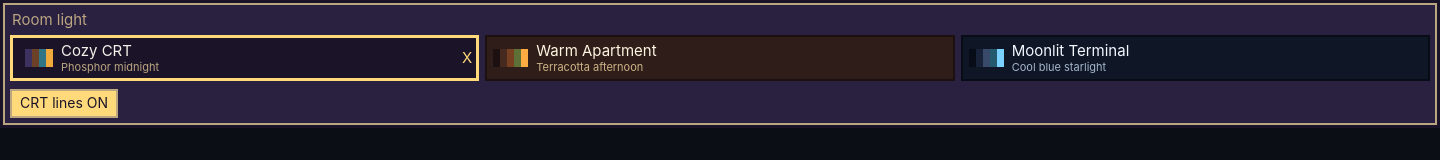
ThemeSelector › toggles_the_crt_scanlines_with_a_labelled_button
This screenshot has width=1440, height=160.
Click the button "CRT lines ON" at (64, 104), box x1=10 y1=89 x2=118 y2=118
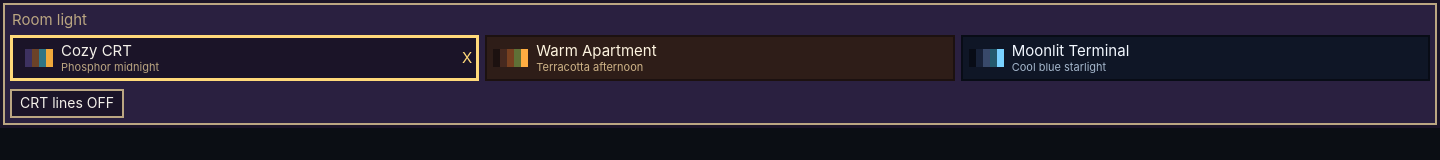
Now the button "CRT lines OFF" is not pressed, box x1=10 y1=89 x2=124 y2=118
